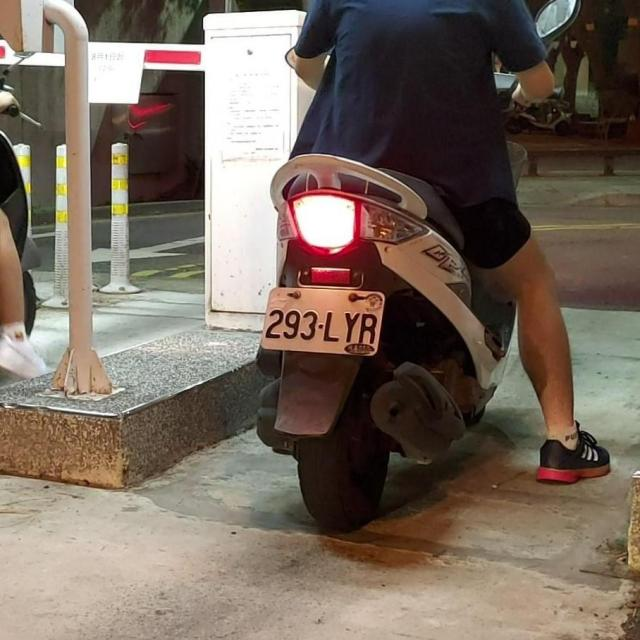W: (258, 283, 386, 357)
